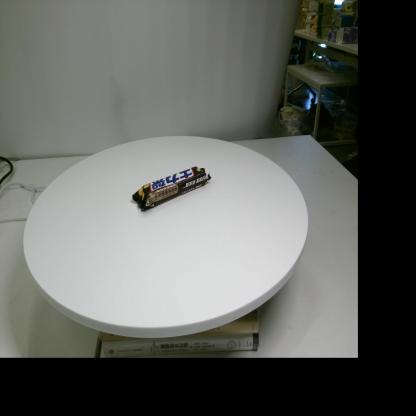Chocolate: (132, 166, 212, 212)
